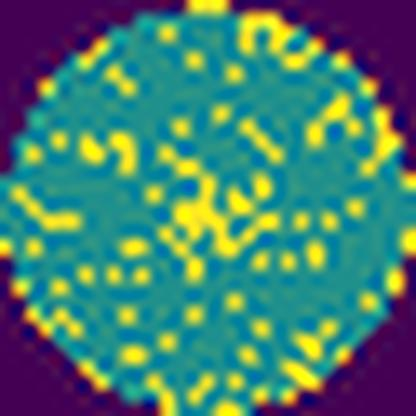Center: (152, 139, 272, 286)
